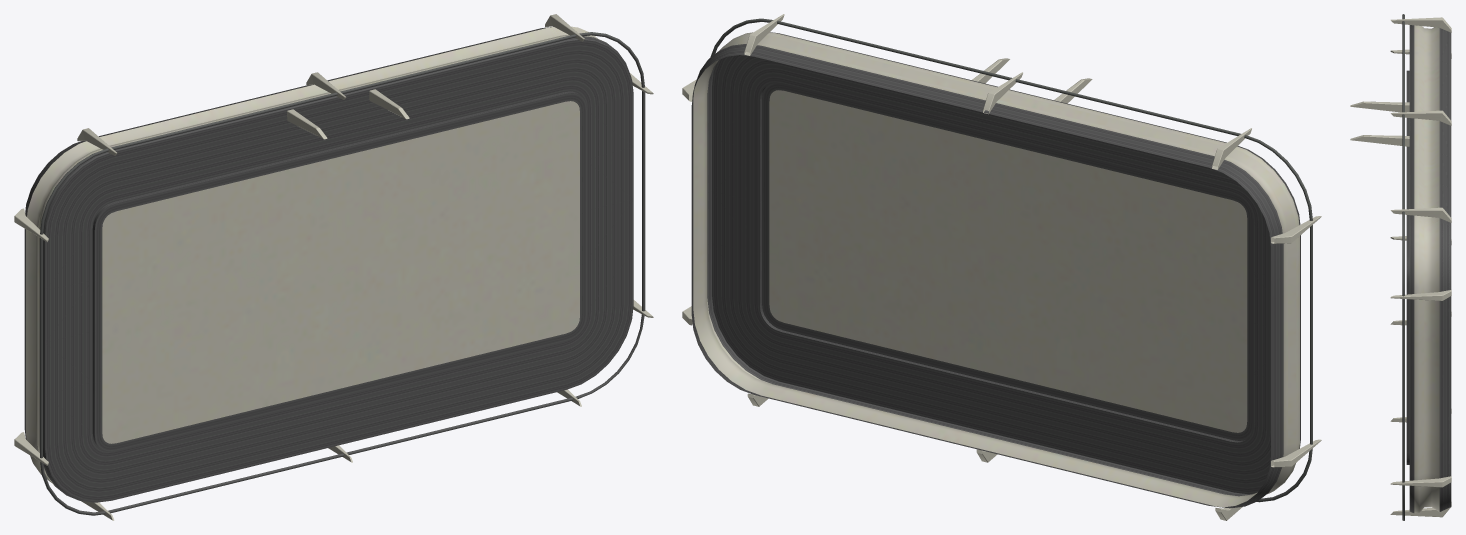
Rendered from nt_2020_car_base_LOD0.obj.
3 renders of one model, left to right at view 1: azimuth 30°, elevation 25°; view 2: azimuth 150°, elevation 25°; view 3: azimuth 270°, elevation 25°, orthographic. The views are drawn at different scales.
Parts seen in each view (by area): view 1: nt_2020_plastic_cream, nt_2020_metal_brushed_trim; view 2: nt_2020_plastic_cream, nt_2020_metal_brushed_trim; view 3: nt_2020_plastic_cream, nt_2020_metal_brushed_trim.
Boxes of the visible parts, x1,y1,x2,y2 form: nt_2020_plastic_cream: (14, 14, 653, 520); nt_2020_metal_brushed_trim: (24, 26, 645, 515); nt_2020_plastic_cream: (682, 14, 1321, 520); nt_2020_metal_brushed_trim: (691, 18, 1312, 508); nt_2020_plastic_cream: (1350, 17, 1451, 517); nt_2020_metal_brushed_trim: (1402, 14, 1451, 520).
Bounding box in the file's own units: 459 × 266 × 79.39.
